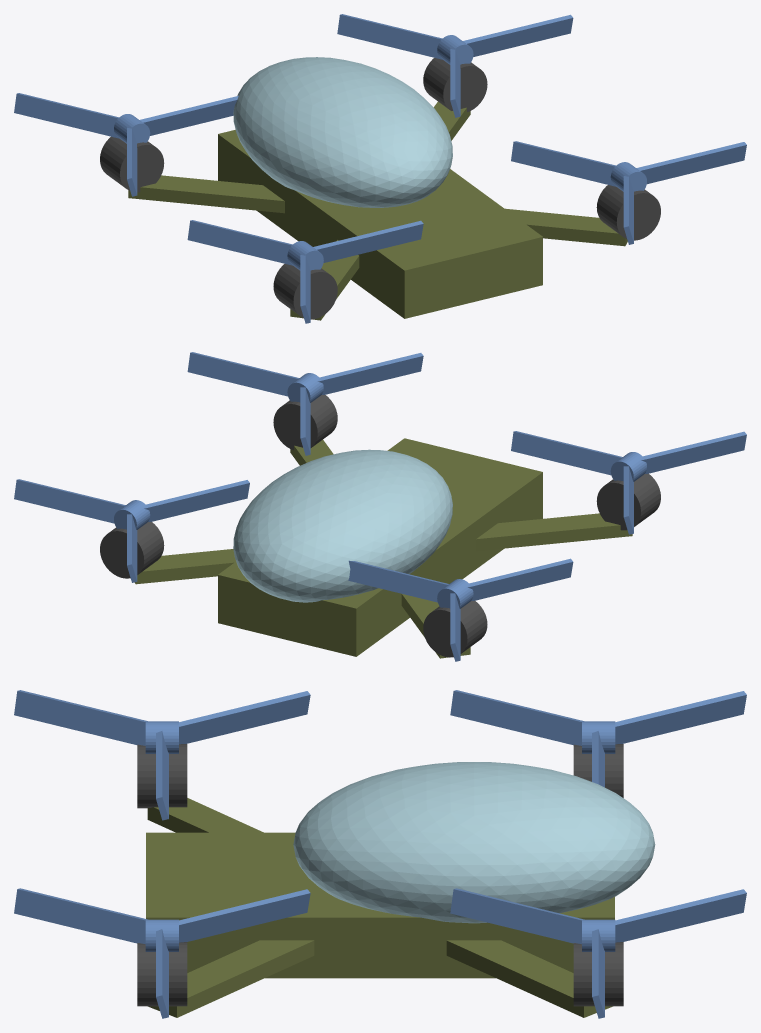
Rendered from iXC13.glb.
The picture shows the model from 3 angles, top to bottom: view 1: azimuth 30°, elevation 25°; view 2: azimuth 150°, elevation 25°; view 3: azimuth 270°, elevation 25°; orthographic projection. The views are drawn at different scales.
Visible parts, largest first — view 1: canopy, frame_body, prop_1, prop_2, prop_0, prop_3, arm_3, arm_0, motor_2, motor_1, motor_0, motor_3 (+2 smaller); view 2: canopy, frame_body, prop_1, prop_0, prop_2, prop_3, arm_2, arm_1, motor_3, motor_1, motor_0, motor_2 (+2 smaller); view 3: canopy, frame_body, prop_0, prop_2, prop_1, prop_3, arm_1, arm_0, motor_1, motor_0, motor_2, arm_2 (+1 smaller).
Boxes of the visible parts, <box> form: canopy: <box>233,57,452,207</box>; frame_body: <box>218,129,542,318</box>; prop_1: <box>337,14,573,117</box>; prop_2: <box>187,220,423,323</box>; prop_0: <box>511,141,746,244</box>; prop_3: <box>14,93,238,196</box>; arm_3: <box>128,175,284,213</box>; arm_0: <box>505,208,627,246</box>; motor_2: <box>273,264,337,319</box>; motor_1: <box>423,58,487,112</box>; motor_0: <box>596,185,660,240</box>; motor_3: <box>100,136,164,192</box>; canopy: <box>233,449,452,602</box>; frame_body: <box>218,438,542,656</box>; prop_1: <box>14,479,249,582</box>; prop_0: <box>187,352,423,455</box>; prop_2: <box>511,431,746,534</box>; prop_3: <box>348,558,573,661</box>; arm_2: <box>476,513,632,551</box>; arm_1: <box>134,549,235,584</box>; motor_3: <box>423,601,487,657</box>; motor_1: <box>100,522,164,578</box>; motor_0: <box>273,395,337,450</box>; motor_2: <box>596,473,660,530</box>; canopy: <box>293,762,655,923</box>; frame_body: <box>146,832,614,978</box>; prop_0: <box>14,888,310,1018</box>; prop_2: <box>14,690,310,820</box>; prop_1: <box>450,888,746,1018</box>; prop_3: <box>450,690,746,787</box>; arm_1: <box>446,940,612,1017</box>; arm_0: <box>148,940,314,1017</box>; motor_1: <box>573,942,623,1006</box>; motor_0: <box>137,942,187,1006</box>; motor_2: <box>137,744,187,808</box>; arm_2: <box>147,798,263,832</box>.
Size of the model in its own units: 0.2167 by 0.0516 by 0.2187.
